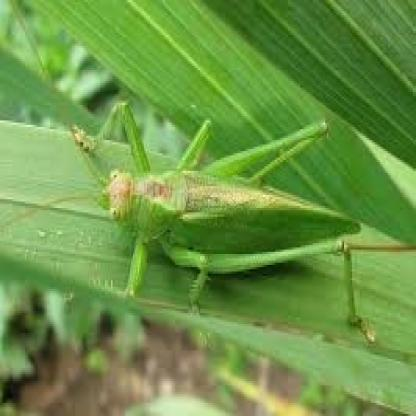grasshopper: (58, 96, 384, 338)
